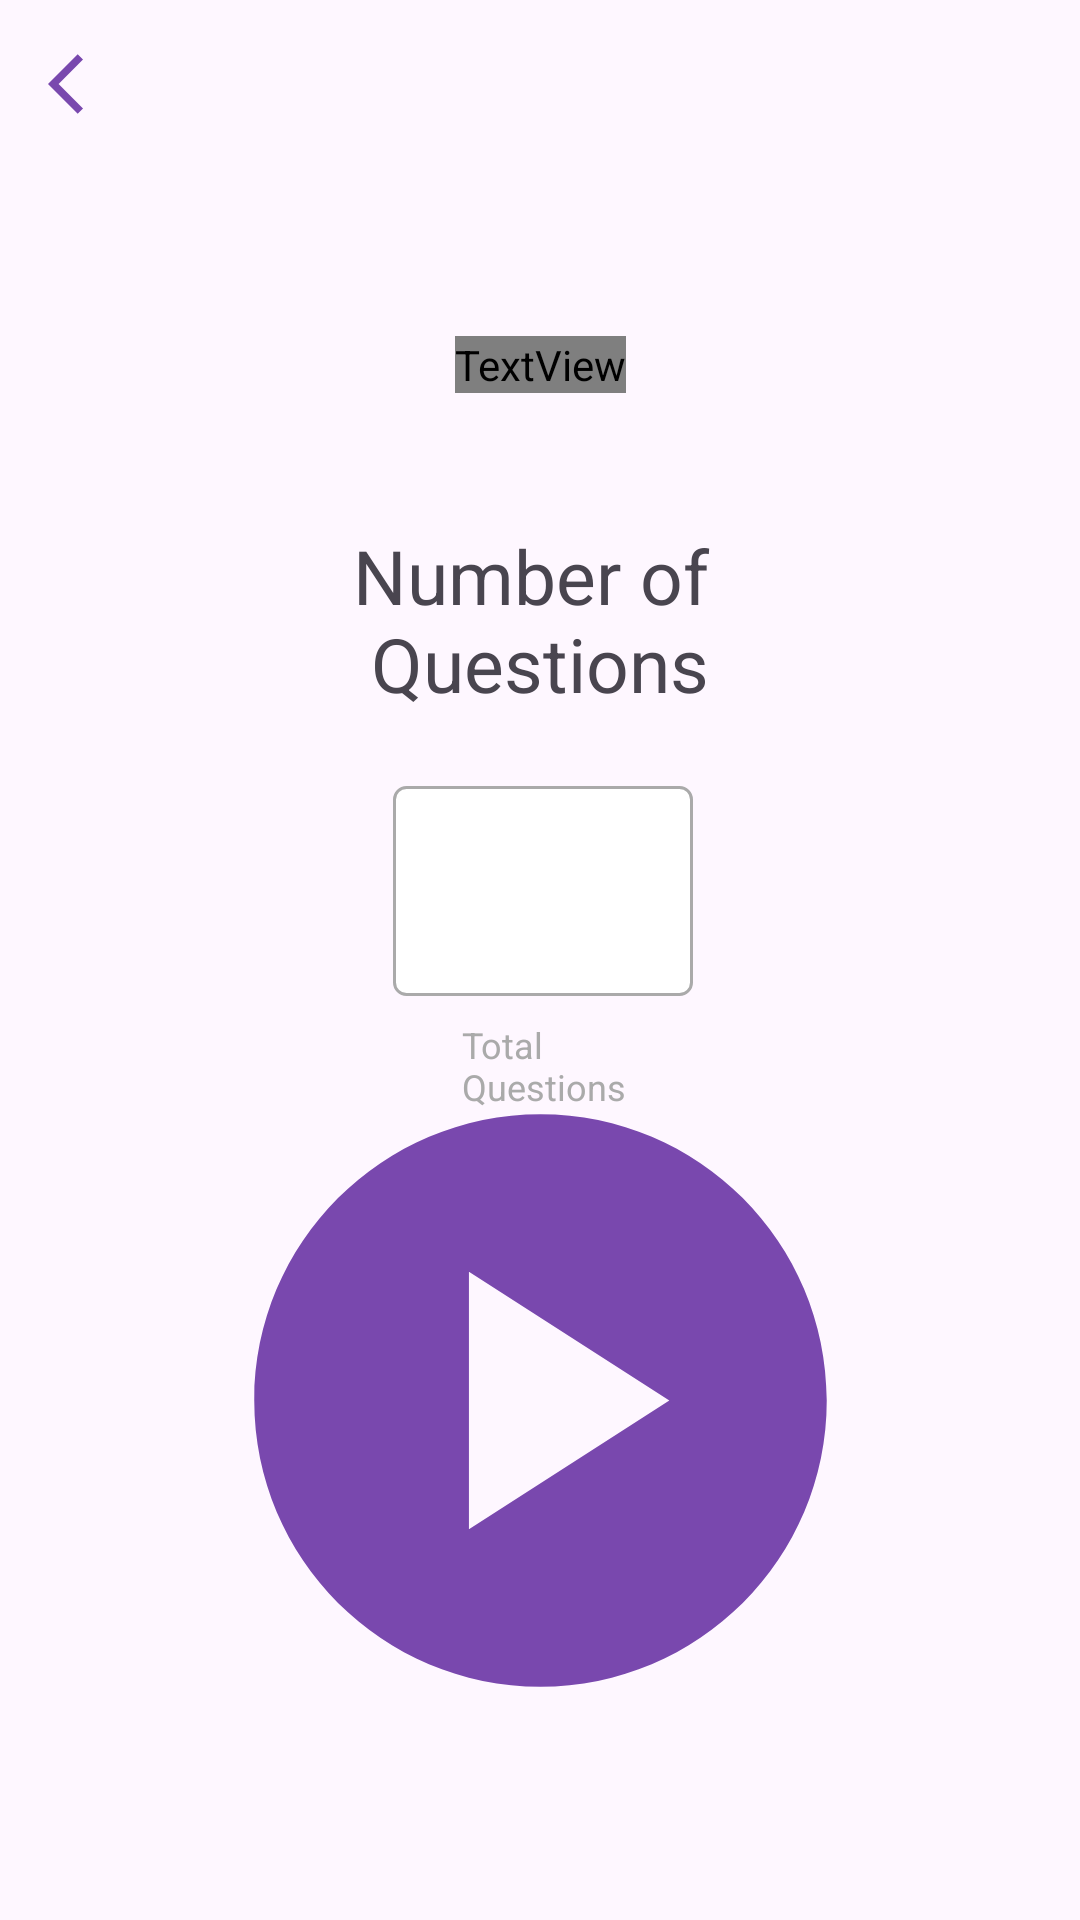

Screen size 1080w x 1920h. Icon name, then its box in pixels as box=[x1, y1, x2, y2]:
Return: box=[48, 54, 83, 114]
